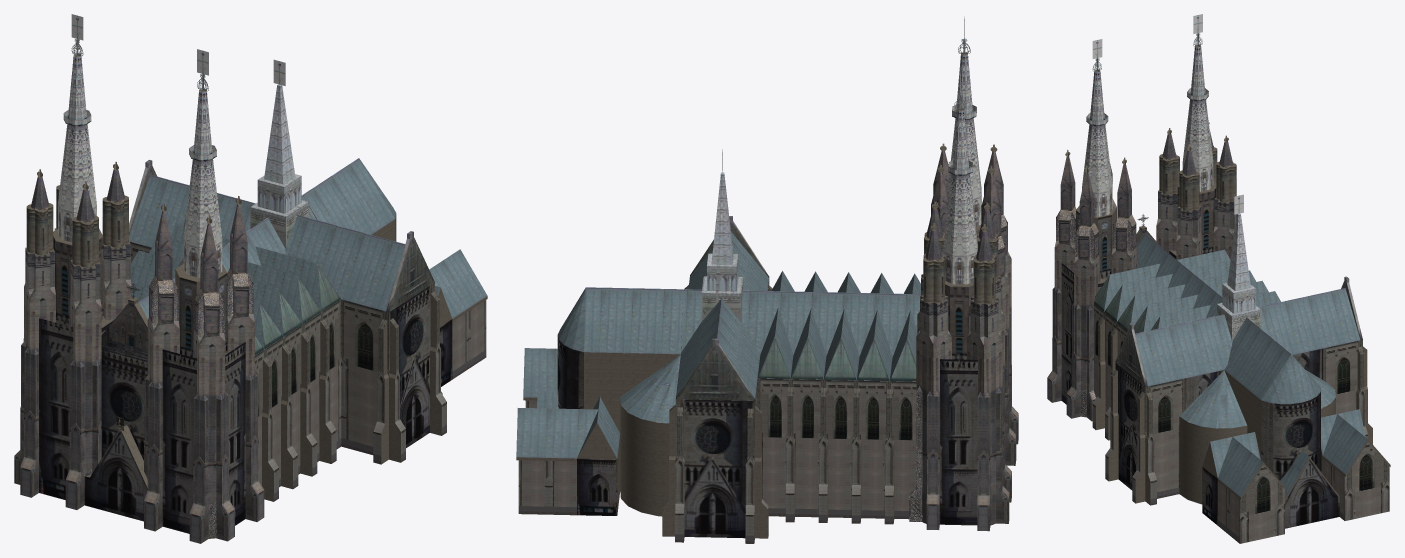
File: katedral.dae
3 renders of one model, left to right at view 1: azimuth 30°, elevation 25°; view 2: azimuth 150°, elevation 25°; view 3: azimuth 270°, elevation 25°, orthographic. The views are drawn at different scales.
Visible parts, largest first — view 1: group_3 (×17), tower3 (×6), tower2 (×6), tower1 (×4), Group_13 (×3), group_11, group_1, group_2; view 2: group_3 (×17), tower2 (×5), group_11 (×3), Group_13 (×5), Group_12 (×2), tower1 (×4), tower3 (×5), group_1; view 3: group_3 (×15), group_11 (×5), Group_13 (×5), tower3 (×6), tower2 (×6), tower1 (×4), Group_12 (×2), group_1, group_2.
Part boxes in pixels (bbox=[...]): group_3 (×17): bbox=[39, 84, 446, 533]; tower3 (×6): bbox=[144, 204, 264, 543]; tower2 (×6): bbox=[14, 199, 131, 509]; tower1 (×4): bbox=[58, 56, 222, 277]; Group_13 (×3): bbox=[429, 249, 487, 386]; group_11: bbox=[303, 158, 396, 234]; group_1: bbox=[53, 236, 103, 326]; group_2: bbox=[179, 277, 196, 357]; group_3 (×17): bbox=[662, 172, 977, 543]; tower2 (×5): bbox=[909, 256, 1011, 531]; group_11 (×3): bbox=[557, 287, 682, 433]; Group_13 (×5): bbox=[516, 348, 620, 515]; Group_12 (×2): bbox=[620, 354, 680, 516]; tower1 (×4): bbox=[943, 54, 981, 284]; tower3 (×5): bbox=[931, 152, 1018, 465]; group_1: bbox=[945, 284, 973, 359]; group_3 (×15): bbox=[1061, 213, 1367, 505]; group_11 (×5): bbox=[1224, 323, 1339, 528]; Group_13 (×5): bbox=[1202, 409, 1389, 543]; tower3 (×6): bbox=[1047, 156, 1137, 421]; tower2 (×6): bbox=[1156, 156, 1236, 259]; tower1 (×4): bbox=[1082, 46, 1213, 216]; Group_12 (×2): bbox=[1179, 370, 1247, 504]; group_1: bbox=[1177, 186, 1216, 254]; group_2: bbox=[1098, 215, 1111, 279].
Size of the model in its own units: 2582 by 2007 by 2346.
Materials: 32 (31 with a texture image).
